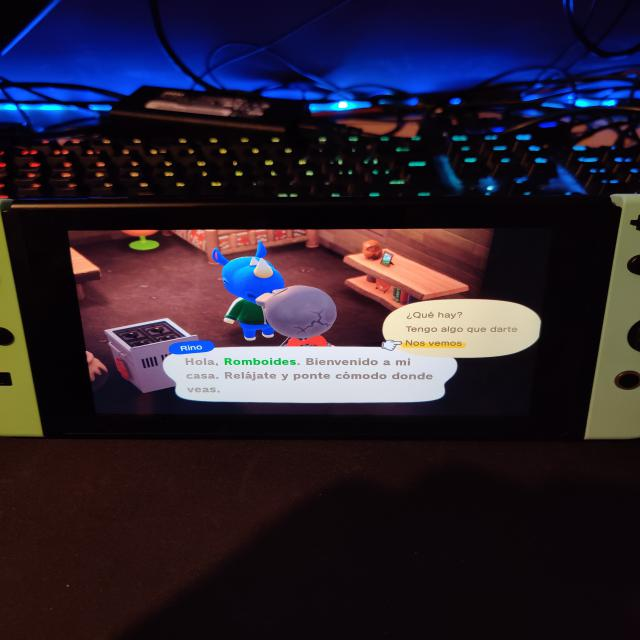text_bubble: (162, 339, 462, 407), (381, 299, 544, 361)
